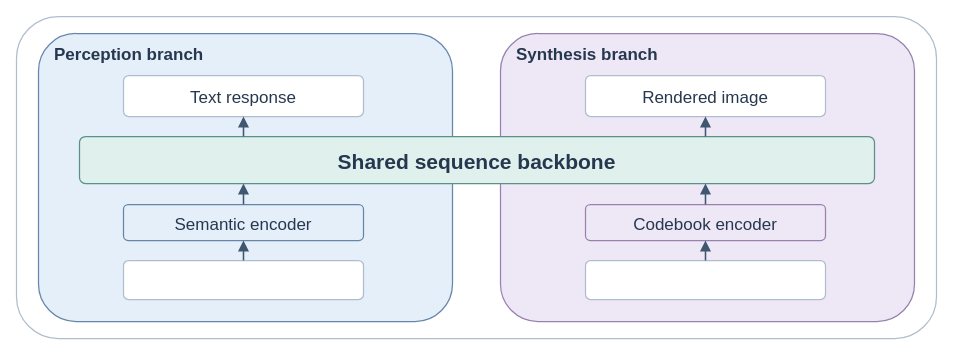
Image size: 953x355. Some labels were removed from this diagram. Here are the shapes that lost their labels. From the top down, the box of each, then its label:
(122, 259, 364, 300): Observed image
(584, 259, 826, 300): Image condition
